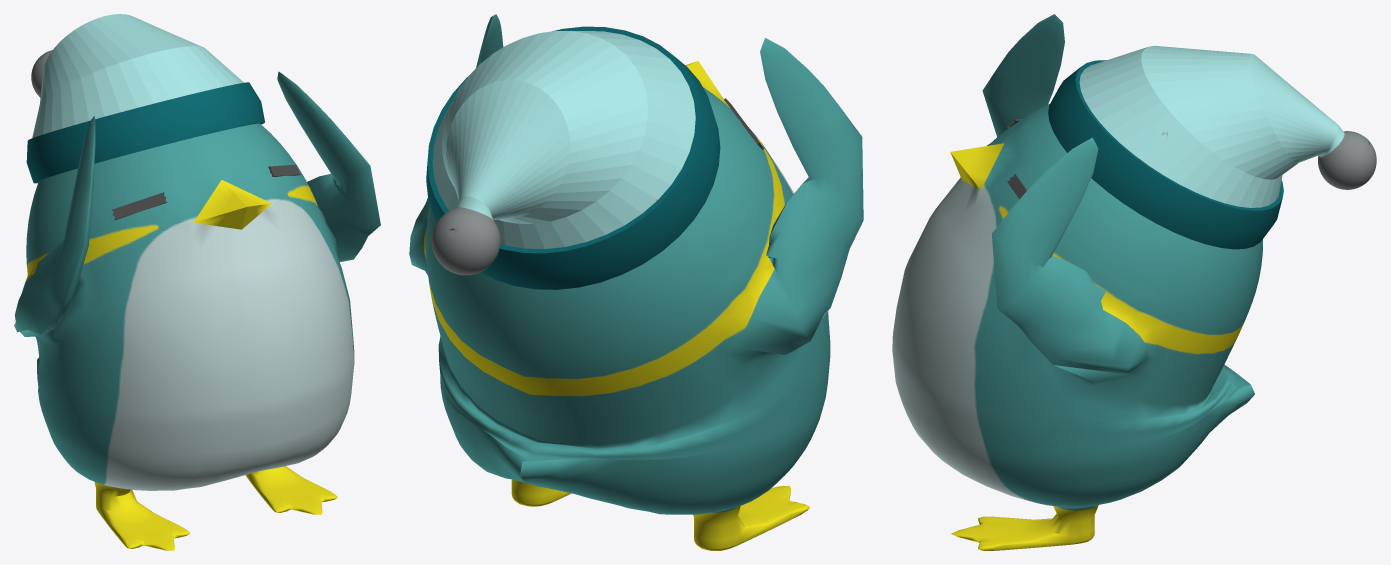
The model's file is penguin_blue_throw_05f.fbx.
3 views of the same model, side by side, from view 1: azimuth 30°, elevation 25°; view 2: azimuth 150°, elevation 25°; view 3: azimuth 270°, elevation 25° (orthographic). The views are drawn at different scales.
Visible parts, largest first — view 1: ppp5, bousi, ai; view 2: ppp5, bousi; view 3: ppp5, bousi.
Part boxes in pixels (x1,y1,x2,y2): ppp5: (14,71,380,550); bousi: (26,14,264,183); ai: (111,164,300,219); ppp5: (409,14,863,550); bousi: (426,26,720,289); ppp5: (892,14,1262,550); bousi: (1048,45,1376,249).
Size of the model in its own units: 14.46 by 18.14 by 18.06.
Materials: 1 (1 with a texture image).
